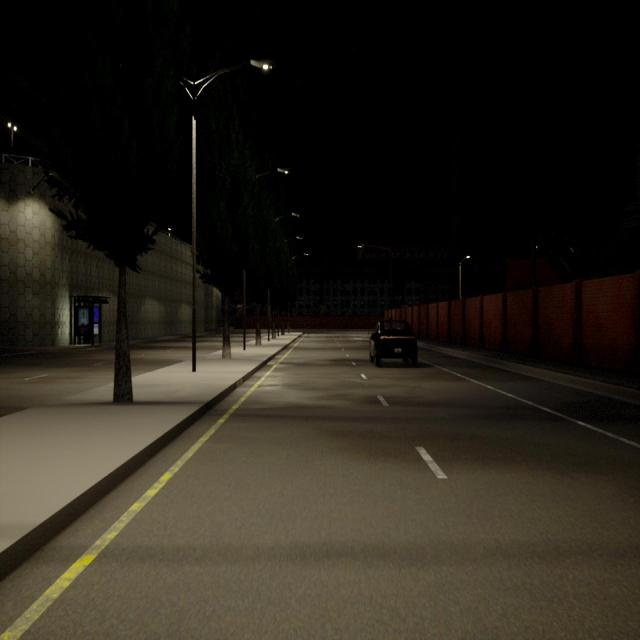Vehicle: (370, 320, 416, 364)
